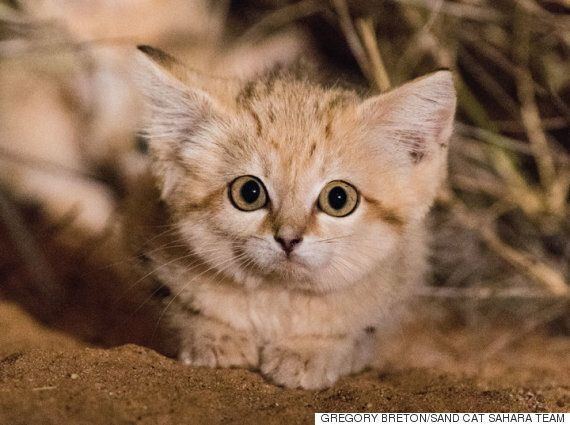cat: (113, 33, 468, 395)
cat-face: (120, 39, 429, 297)
